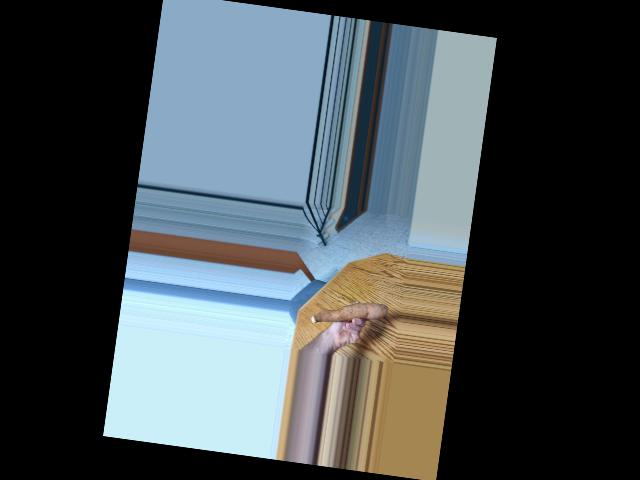sweet_potato: (312, 290, 385, 333)
